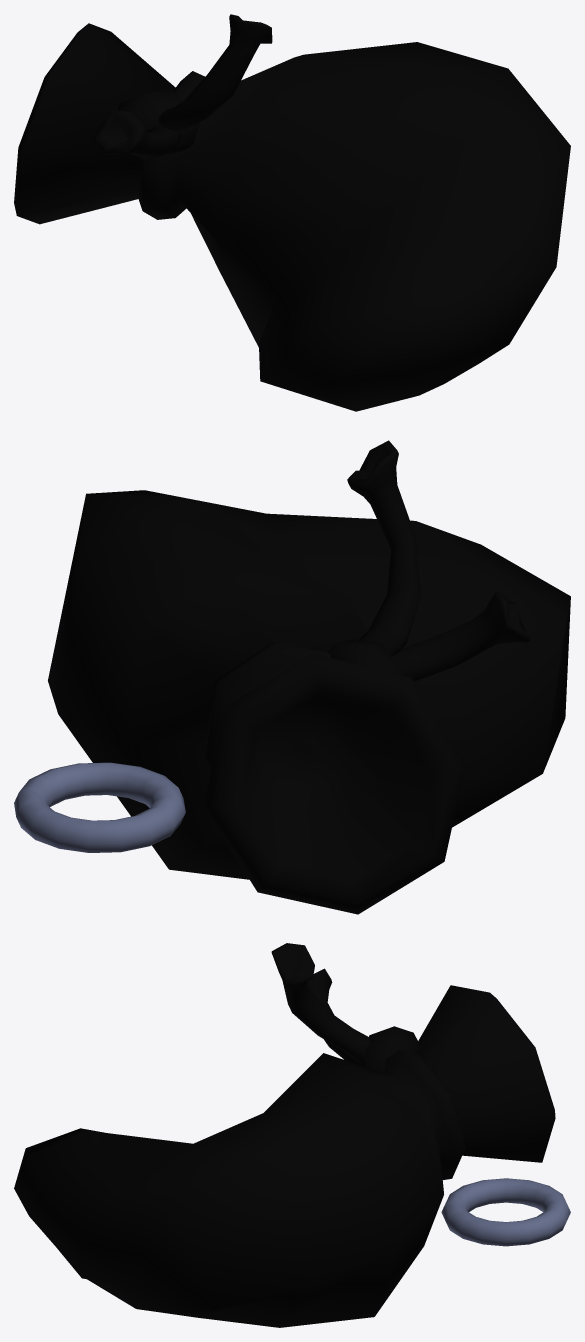
File: charm_bag_empty.fbx
3 views of the same model, one above another, from view 1: azimuth 30°, elevation 25°; view 2: azimuth 150°, elevation 25°; view 3: azimuth 270°, elevation 25° (orthographic). The views are drawn at different scales.
Parts seen in each view (by area): view 1: charm_bag_empty; view 2: charm_bag_empty; view 3: charm_bag_empty.
Boxes of the visible parts, left/top/right/bottom form: charm_bag_empty: left=14, top=14, right=570, bottom=411; charm_bag_empty: left=14, top=440, right=570, bottom=914; charm_bag_empty: left=14, top=943, right=570, bottom=1327.
Size of the model in its own units: 1.59 by 1.35 by 1.96.
